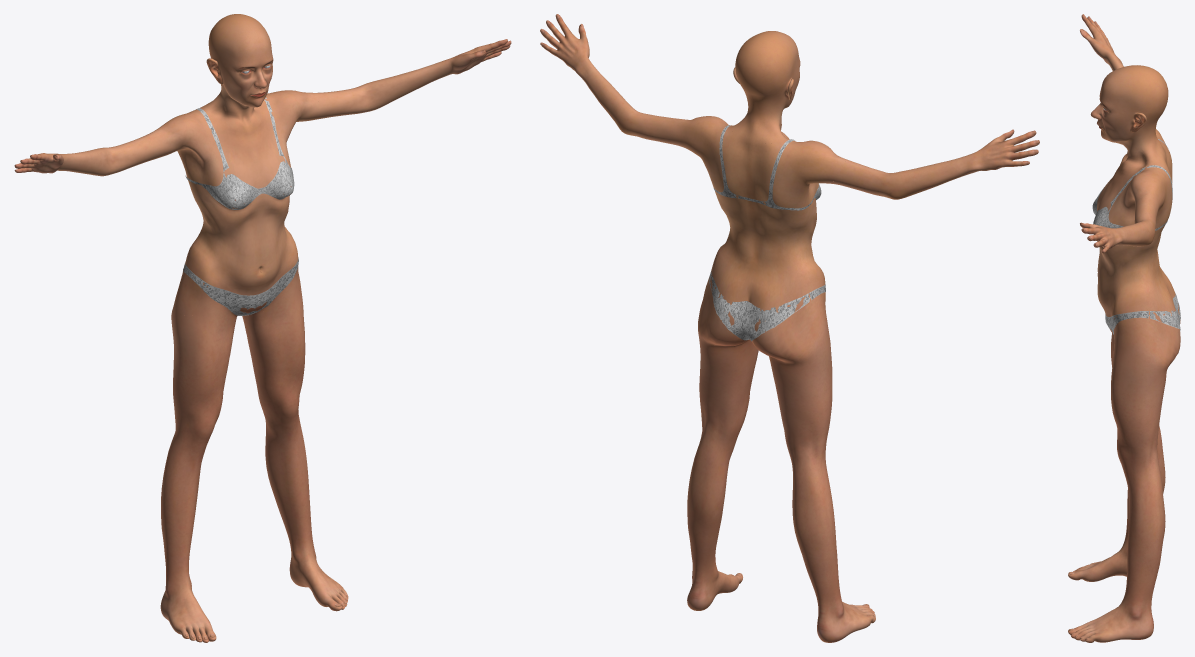
3 views of the same model, side by side, from view 1: azimuth 30°, elevation 25°; view 2: azimuth 150°, elevation 25°; view 3: azimuth 270°, elevation 25° (orthographic). The views are drawn at different scales.
Visible parts, largest first — view 1: cm_antonia, bra, panties; view 2: cm_antonia, panties, bra; view 3: cm_antonia, panties, bra.
Part boxes in pixels (left/top/right/bottom): cm_antonia: left=14, top=14, right=511, bottom=642; bra: left=185, top=97, right=294, bottom=209; panties: left=183, top=258, right=298, bottom=315; cm_antonia: left=540, top=14, right=1039, bottom=642; panties: left=709, top=271, right=825, bottom=341; bra: left=713, top=125, right=821, bottom=210; cm_antonia: left=1068, top=14, right=1180, bottom=642; panties: left=1105, top=294, right=1180, bottom=334; bra: left=1092, top=139, right=1172, bottom=230.
Bounding box in the file's own units: 1.55 × 1.75 × 0.3303.
12 materials, 9 textured.
